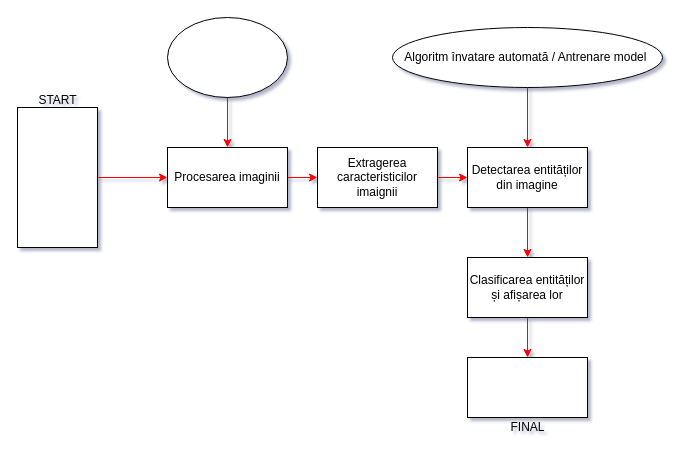
The diagram is 686 pixels wide and 464 high, and some of its shapes have lost their labels. Here are the shapes that lost their labels. From the top down, the centre of each, then its label:
At (x=227, y=57): "Aplicare mască".
At (x=57, y=177): "Imginea de intrare".
At (x=527, y=387): "Rezultatul final".
